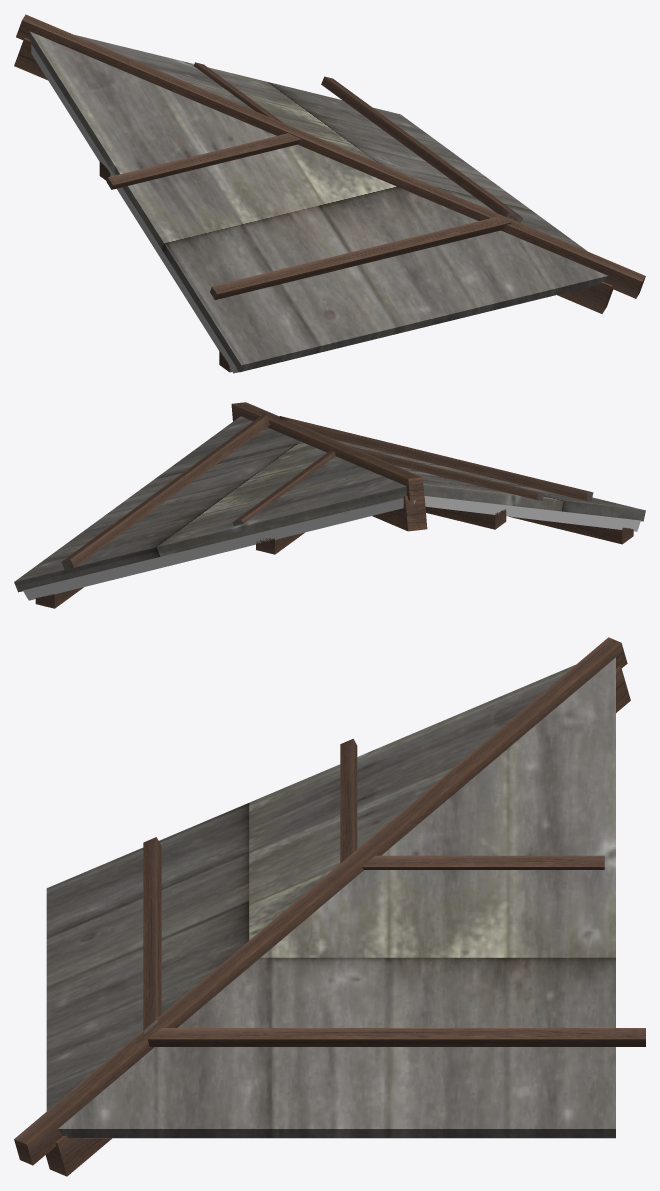
The model's file is itabuki_2x2t_a1corner_vex.fbx.
The picture shows the model from 3 angles, top to bottom: view 1: azimuth 30°, elevation 25°; view 2: azimuth 150°, elevation 25°; view 3: azimuth 270°, elevation 25°; orthographic projection. The views are drawn at different scales.
Visible parts, largest first — view 1: itabuki_2x2t_a1corner_vex; view 2: itabuki_2x2t_a1corner_vex; view 3: itabuki_2x2t_a1corner_vex.
Boxes of the visible parts, bbox=[...] form: itabuki_2x2t_a1corner_vex: bbox=[14, 14, 645, 373]; itabuki_2x2t_a1corner_vex: bbox=[14, 402, 645, 608]; itabuki_2x2t_a1corner_vex: bbox=[14, 637, 645, 1176].
Size of the model in its own units: 297 by 156 by 300.
